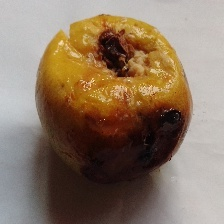guava: (23, 30, 211, 224)
